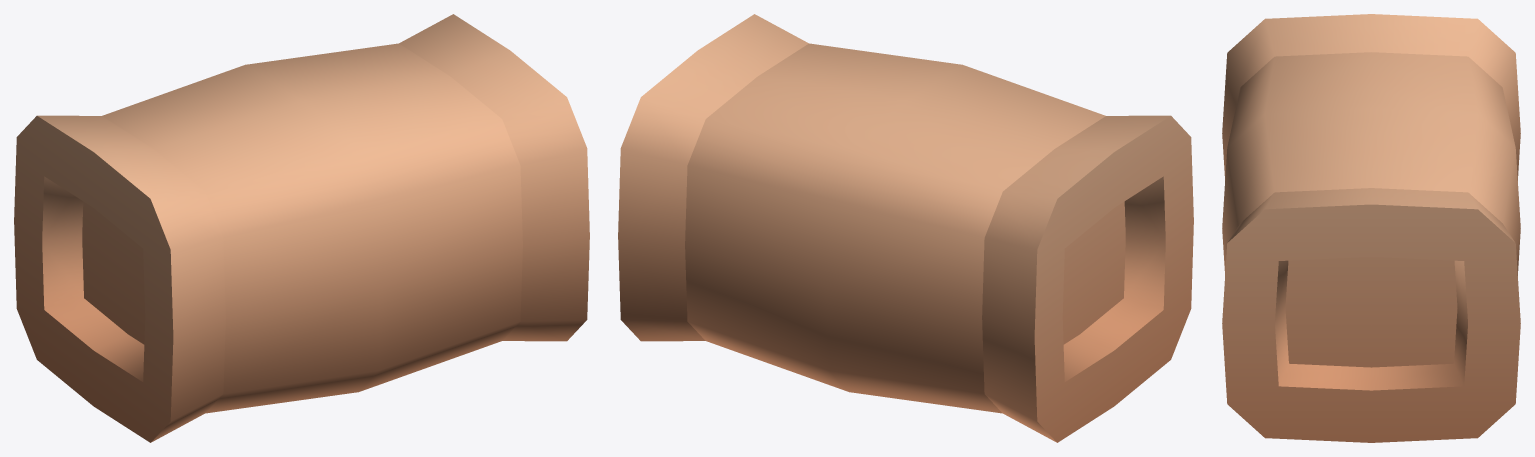
The model's file is cc0-hay-bale-lod0.glb.
The picture shows the model from 3 angles, left to right: view 1: azimuth 30°, elevation 25°; view 2: azimuth 150°, elevation 25°; view 3: azimuth 270°, elevation 25°; orthographic projection. The views are drawn at different scales.
Parts seen in each view (by area): view 1: part_0; view 2: part_0; view 3: part_0.
Boxes of the visible parts, x1,y1,x2,y2 form: part_0: (14,14,589,442); part_0: (618,14,1193,442); part_0: (1222,14,1520,442).
Bounding box in the file's own units: 0.6066 × 0.3541 × 0.4019.
Materials: 1 (1 with a texture image).
